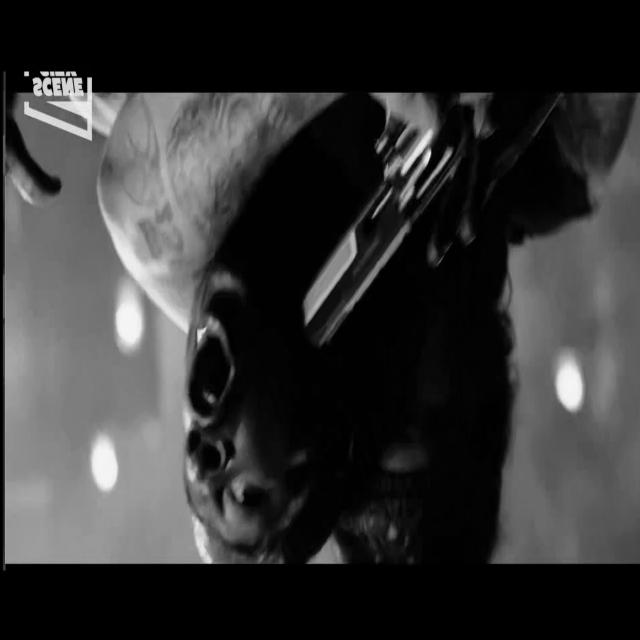weapons: (294, 90, 478, 364)
